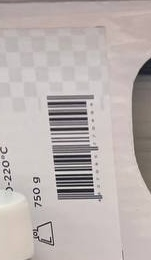1d: (47, 94, 95, 201)
